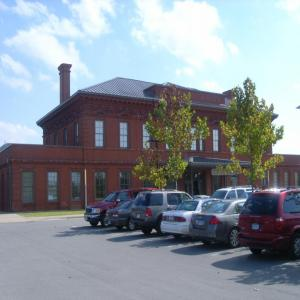Vehicle-registration-plate: (252, 225, 260, 232), (169, 216, 175, 223), (200, 221, 206, 228), (137, 214, 142, 220)
